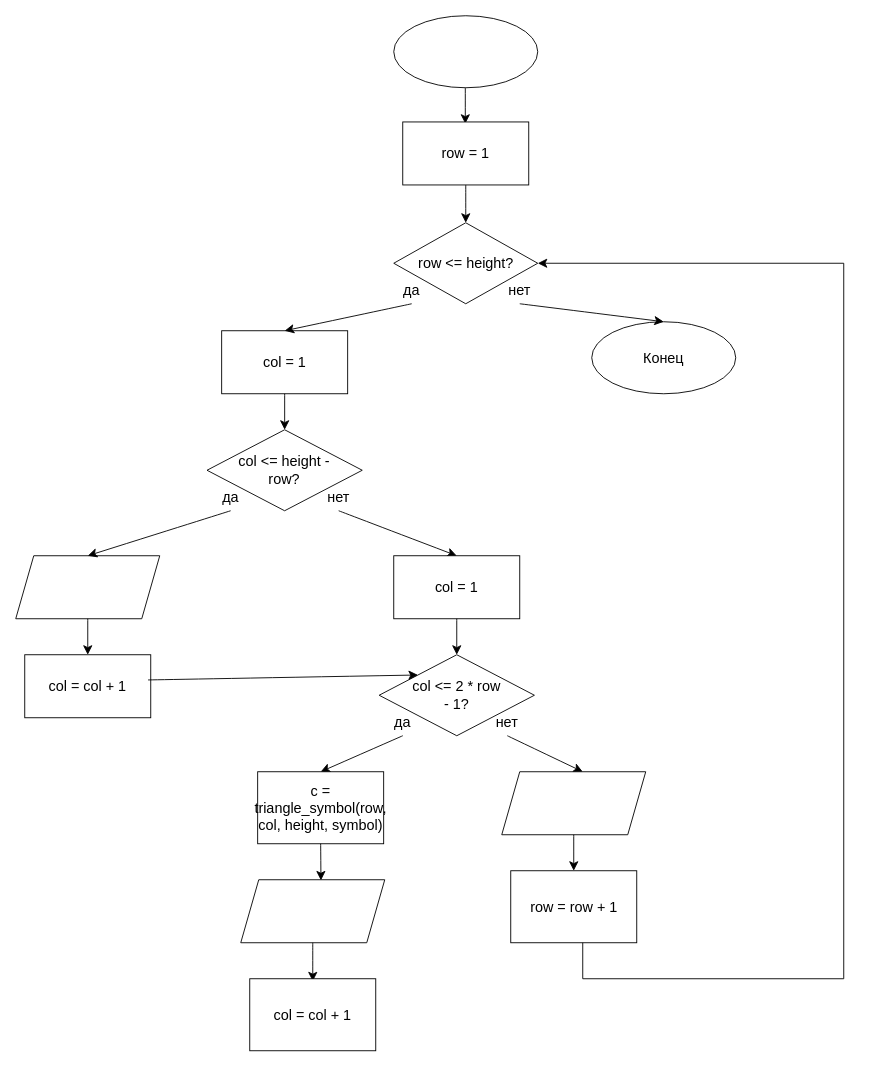
This 869x1067 diagram has some shape labels left out. The shapes that lost their labels are listed below. From the top down, each one's centre as x and y in pixels, then its label:
[465,51]: Начало
[87,587]: Вывод пробела
[573,803]: Переход на новую строек
[312,911]: Вывод c
